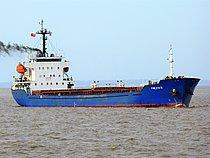Ship: (10, 19, 204, 112)
